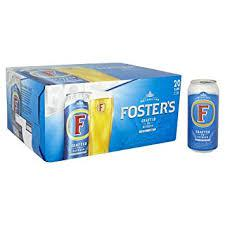beer: (188, 77, 219, 153)
